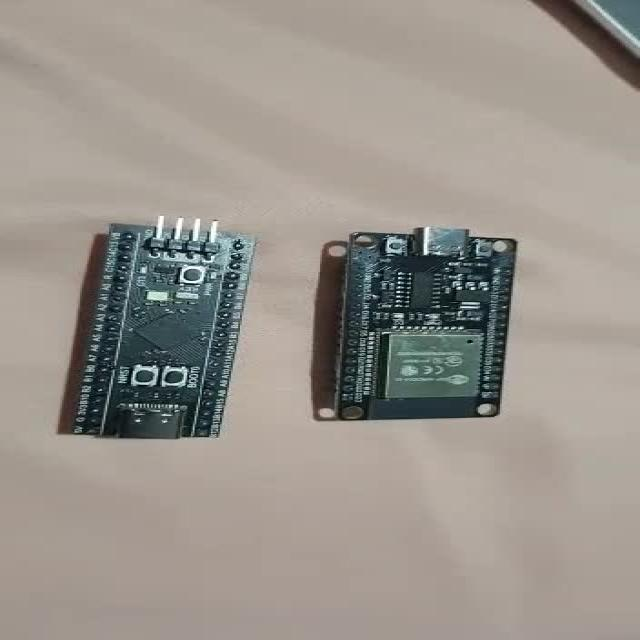ESP32: (337, 228, 516, 420)
STM32: (74, 217, 255, 439)
